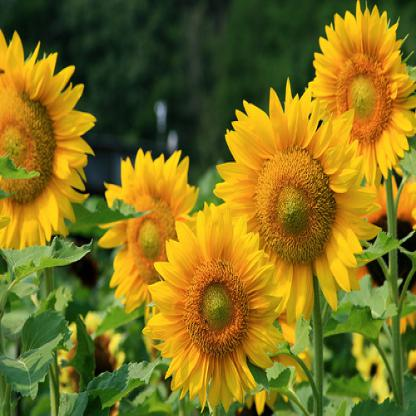SUN FLOWER: (2, 19, 409, 411)
